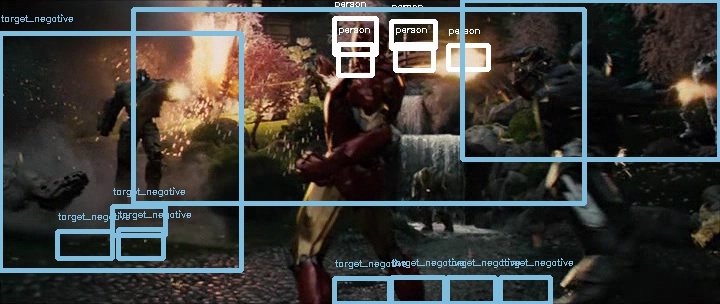person: (346, 21, 387, 68), (345, 21, 386, 68), (347, 21, 388, 68), (346, 20, 387, 67), (346, 22, 387, 69)
target_negative: (376, 3, 643, 211), (626, 202, 669, 257), (566, 196, 581, 248), (43, 263, 147, 269), (652, 199, 678, 210), (615, 137, 620, 192)
